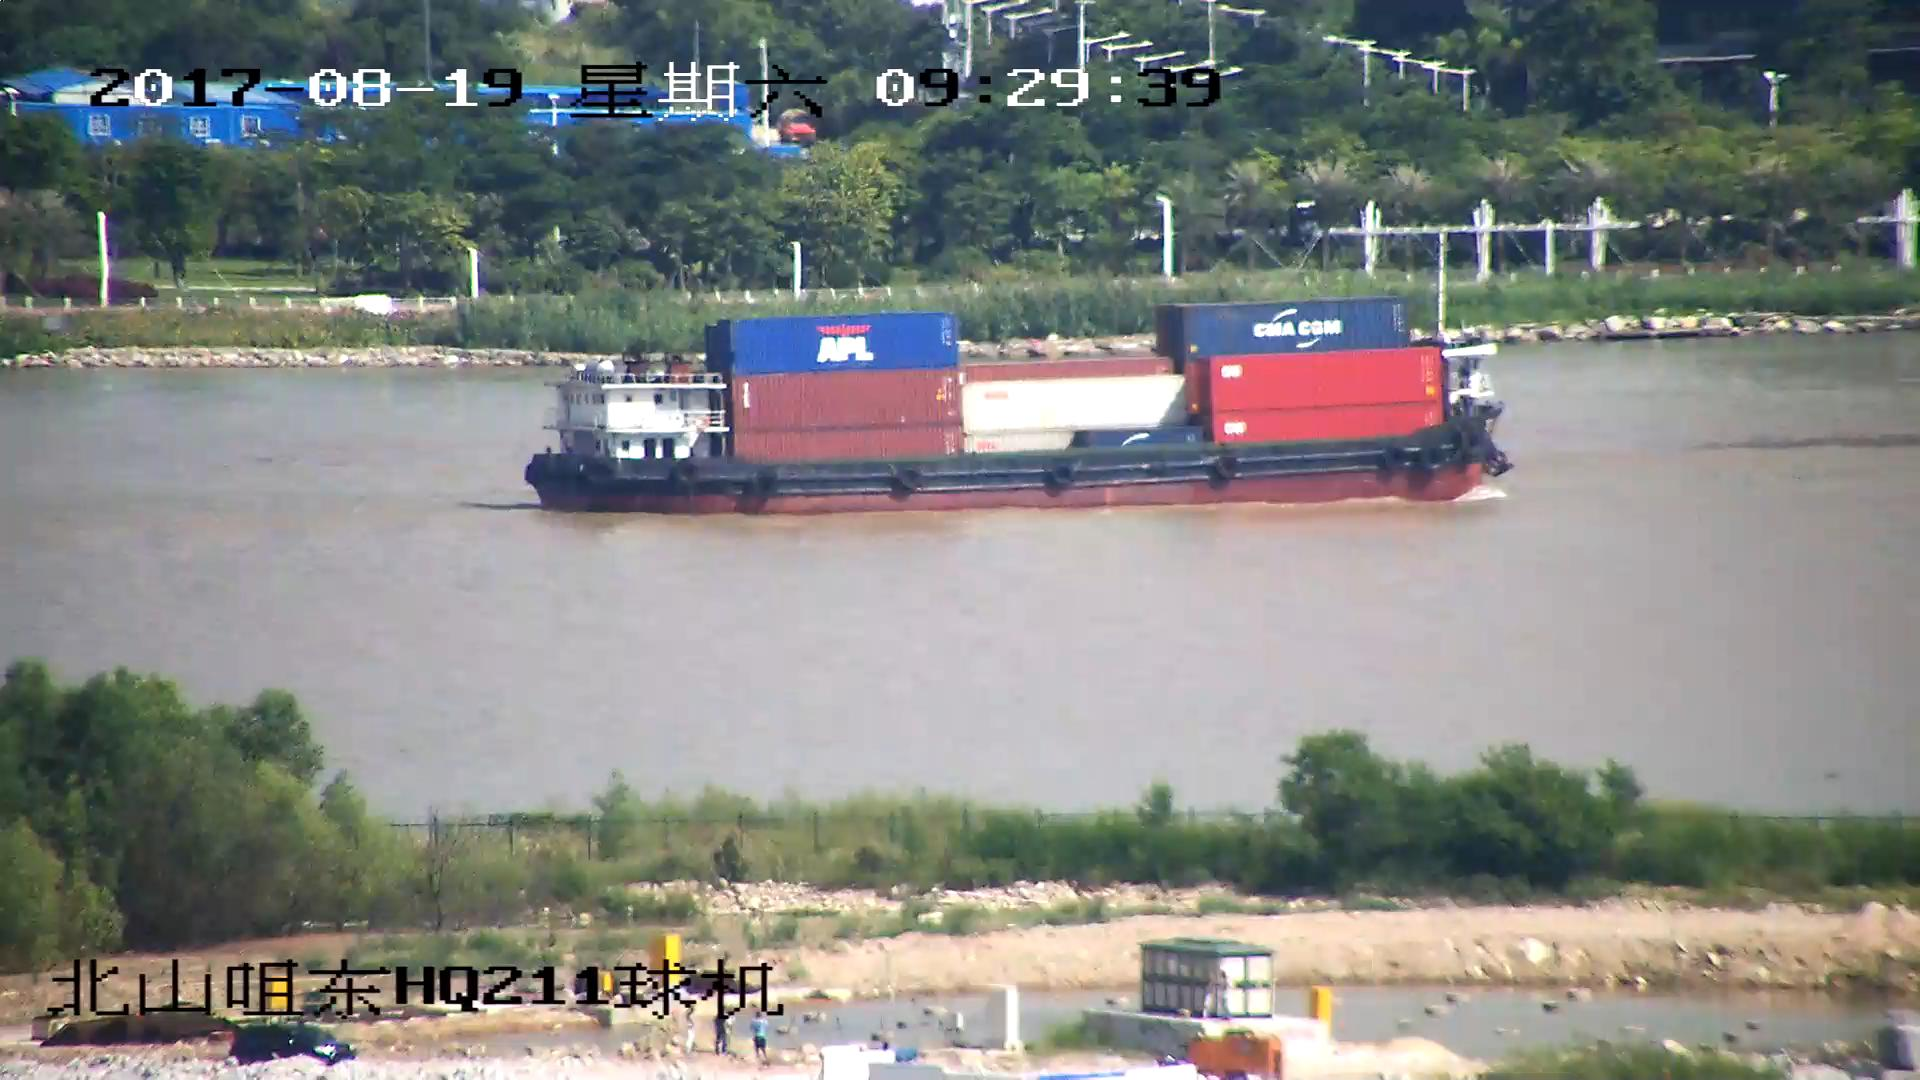container ship: (524, 243, 1510, 514)
